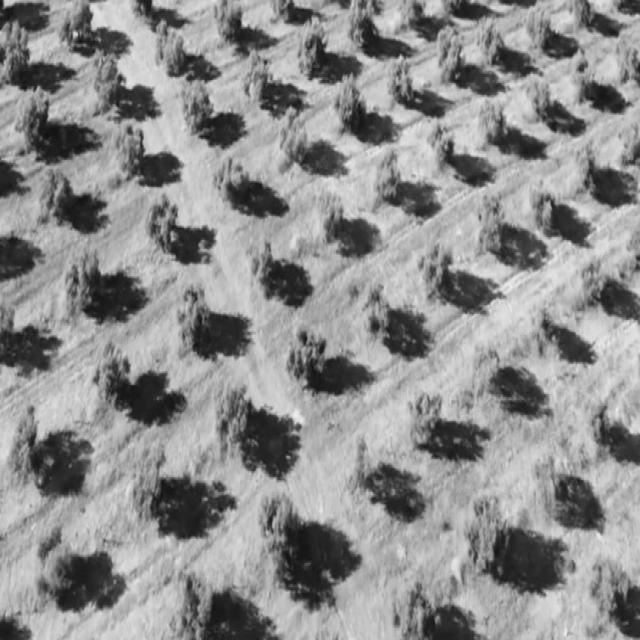trees: (253, 480, 308, 593), (456, 484, 516, 584), (579, 540, 635, 640), (206, 365, 258, 463), (128, 427, 173, 535), (386, 558, 446, 638), (2, 395, 47, 493), (167, 559, 221, 639), (60, 236, 109, 320), (280, 316, 332, 394), (411, 227, 462, 306), (169, 276, 219, 354), (10, 83, 58, 161), (472, 179, 516, 264), (402, 372, 448, 452), (86, 337, 132, 412), (140, 184, 185, 259), (521, 175, 567, 244), (354, 274, 398, 346), (369, 144, 408, 222), (86, 45, 130, 113), (111, 115, 154, 184), (208, 147, 253, 210), (330, 73, 371, 142), (179, 76, 220, 143), (570, 133, 608, 204), (274, 108, 314, 175), (238, 48, 279, 113), (422, 113, 462, 179), (292, 12, 330, 80), (150, 16, 191, 78), (37, 168, 80, 227), (314, 186, 351, 253), (433, 24, 468, 94), (0, 16, 34, 88), (475, 94, 514, 156), (526, 292, 560, 363), (246, 232, 282, 297), (382, 49, 420, 110), (582, 386, 614, 458), (520, 72, 558, 132), (341, 0, 383, 54), (576, 250, 610, 316), (567, 47, 602, 109), (467, 335, 505, 392), (523, 0, 560, 58), (209, 1, 248, 55), (58, 0, 97, 53), (475, 15, 510, 71), (613, 28, 640, 95), (617, 113, 640, 178), (562, 0, 603, 33), (397, 0, 432, 32)
